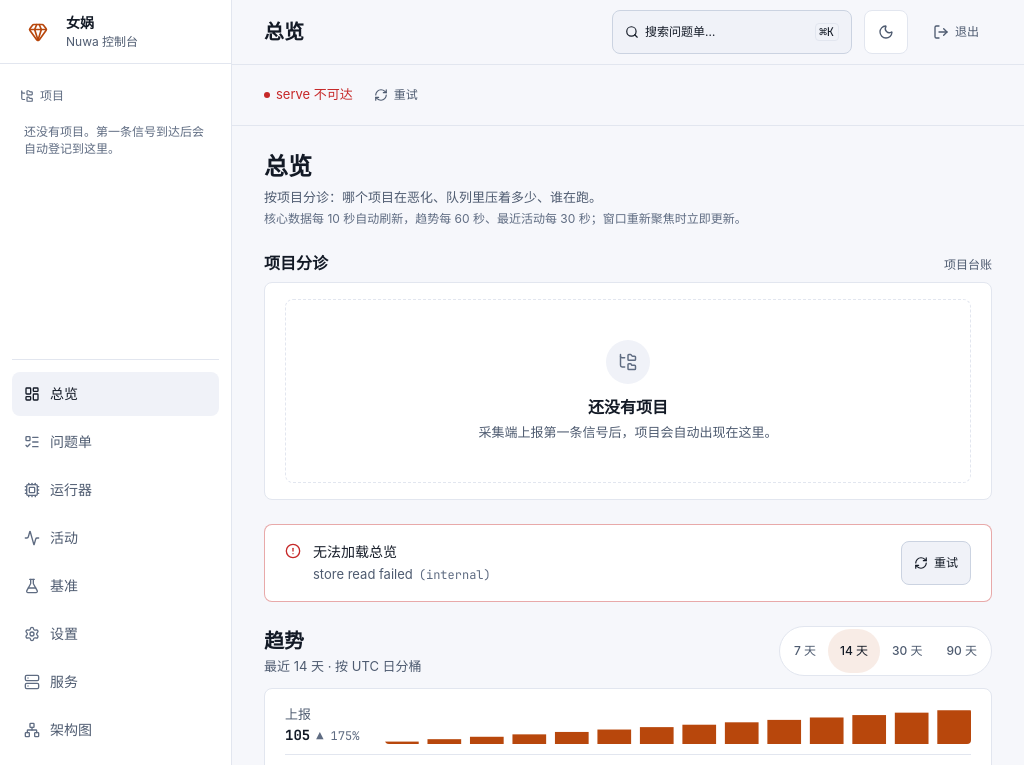
it: OverviewPage › shows a retryable error when the overview fails
The width and height of the screenshot is (1024, 765).
Expected: the message "无法加载总览 store read failed(internal)" is shown, [285, 543, 491, 583]
Click the button "重试" in the row of "internal".
click(936, 563)  # box [901, 541, 971, 585]
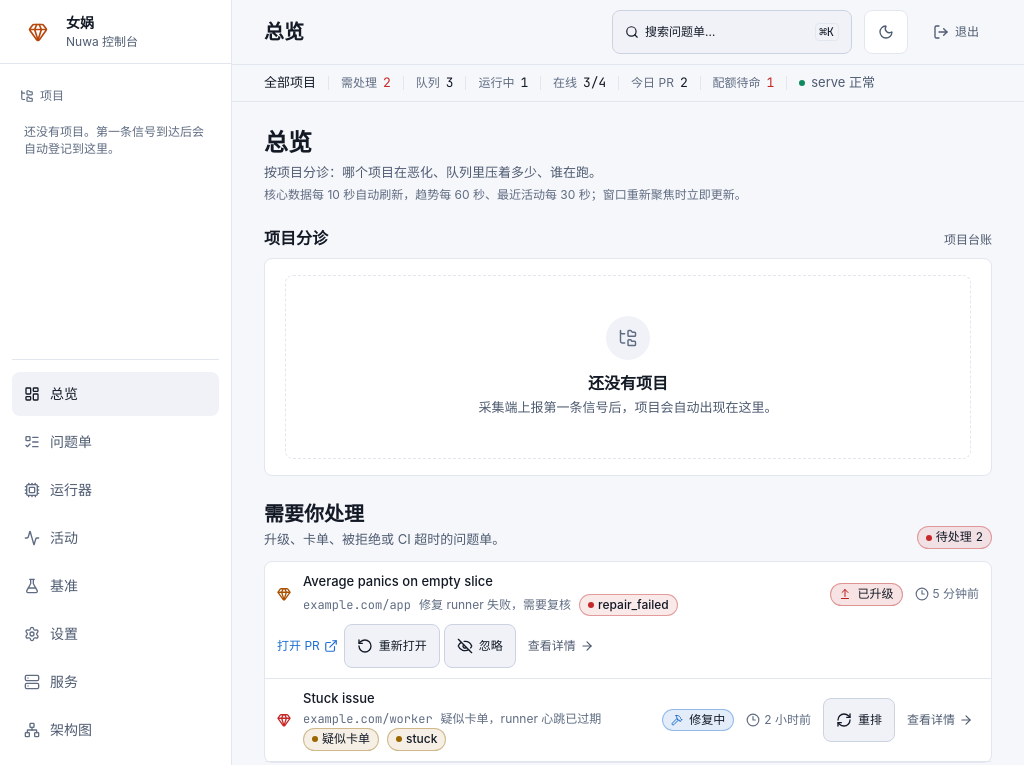
Expected: the element "需要你处理" is shown, [264, 500, 992, 763]
Expected: the link "Average panics on empty slice" is shown, [303, 573, 493, 589]
